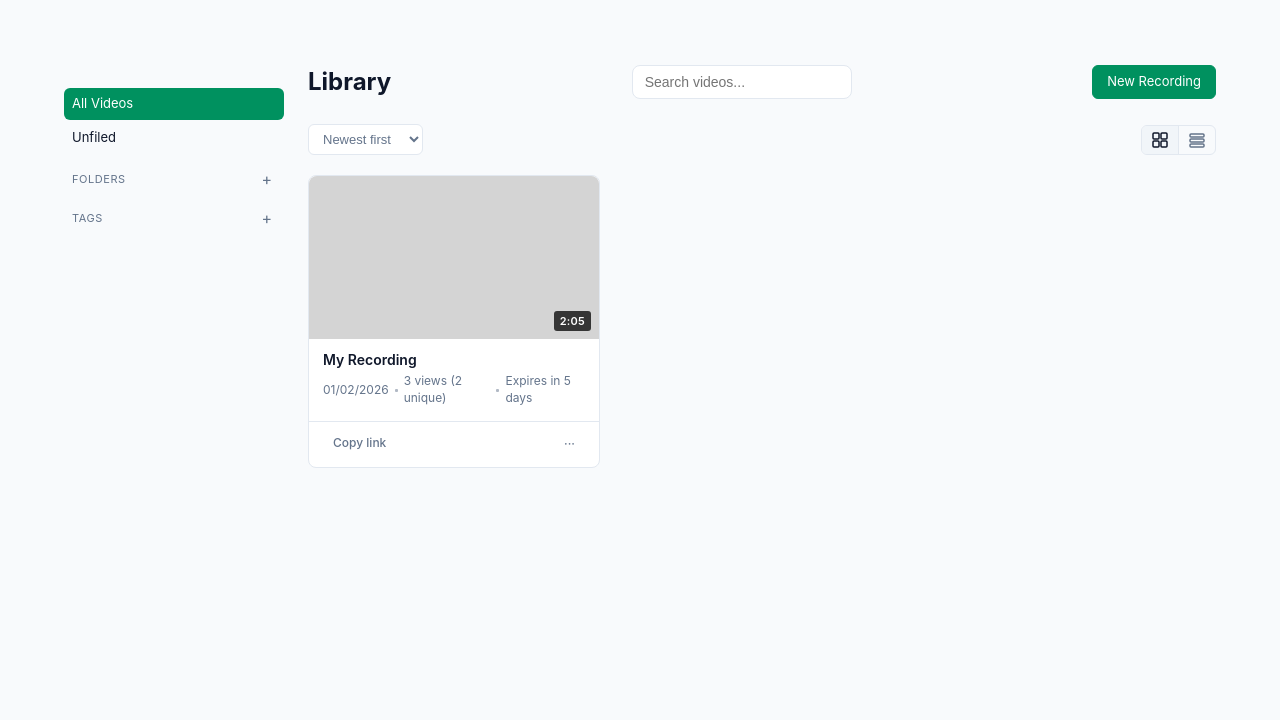
Library › deletes video when confirmed
Click the button named "More actions" at (570, 444), box left=554, top=431, right=585, bottom=457
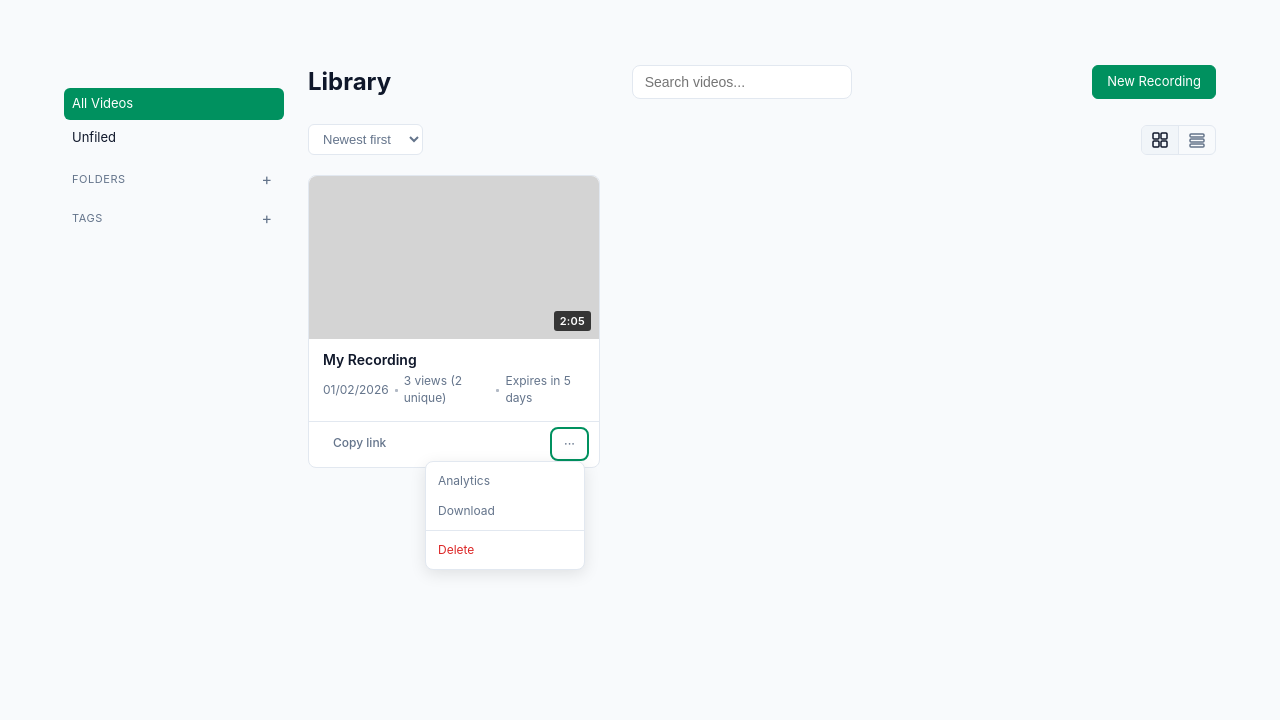
Click the button "Delete" at (505, 550), box left=426, top=535, right=584, bottom=565
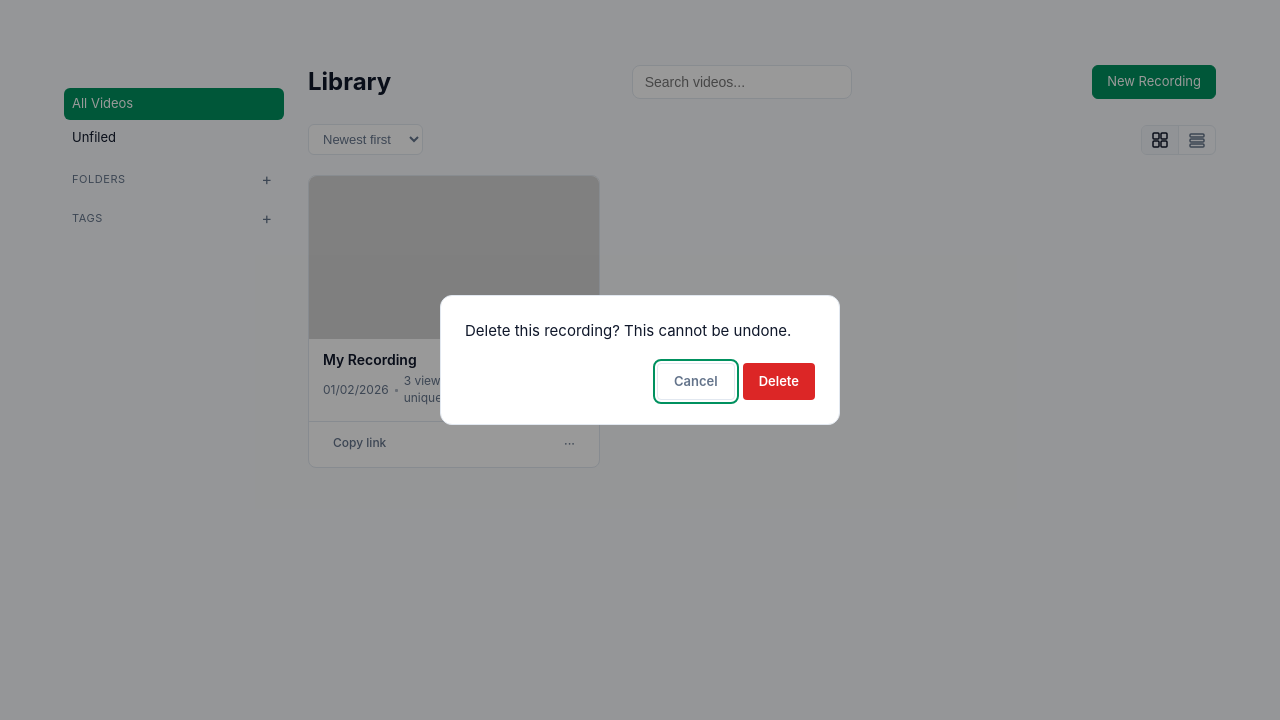
Click the button "Delete" at (779, 381), box left=743, top=362, right=815, bottom=400
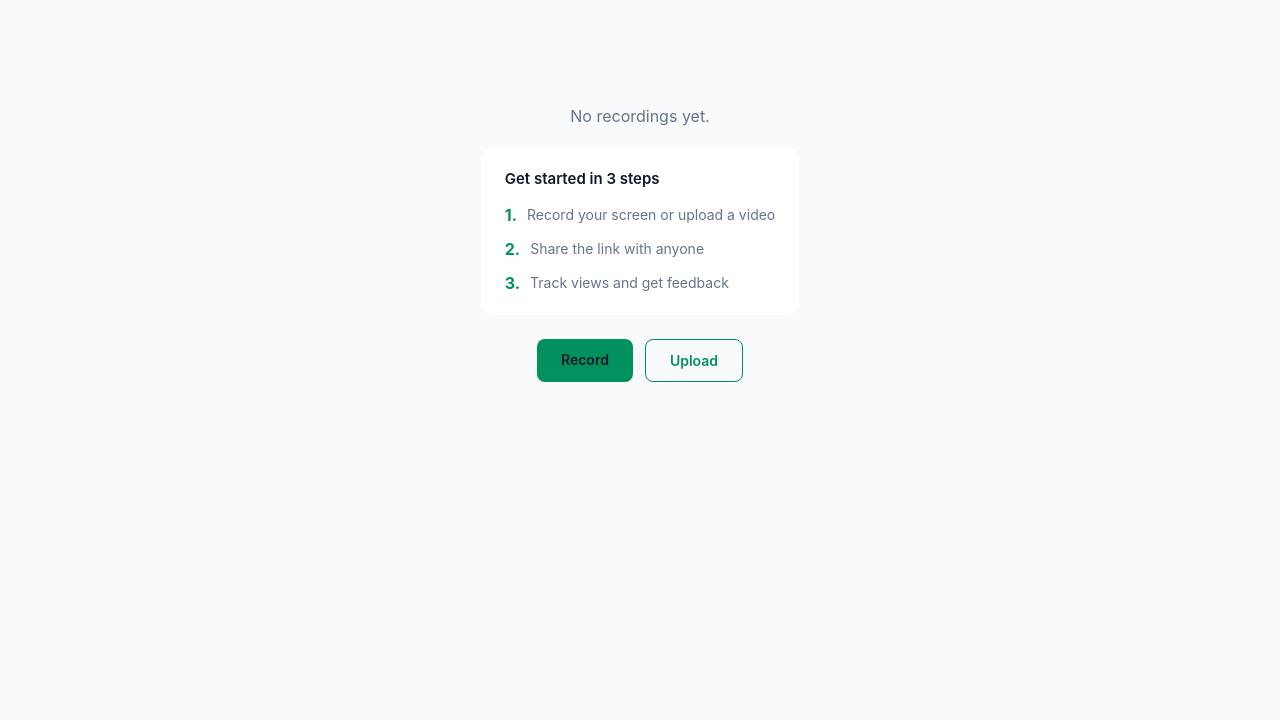
Result: the link "My Recording" is gone
